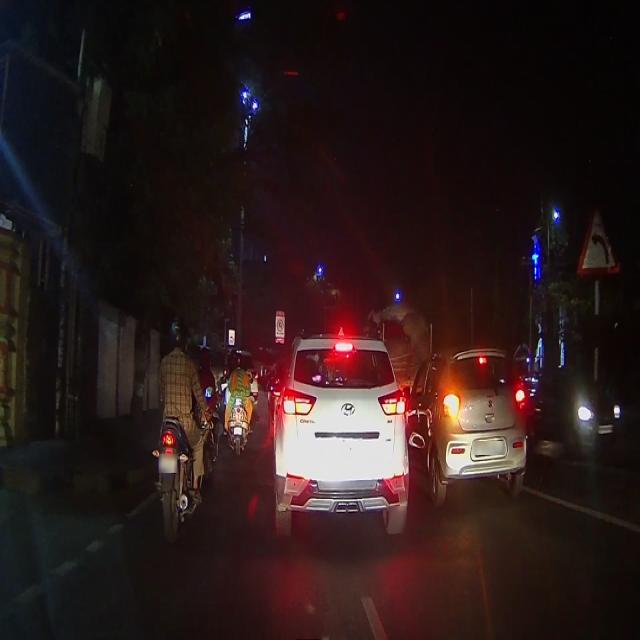left-hand-curve: (580, 200, 614, 270)
